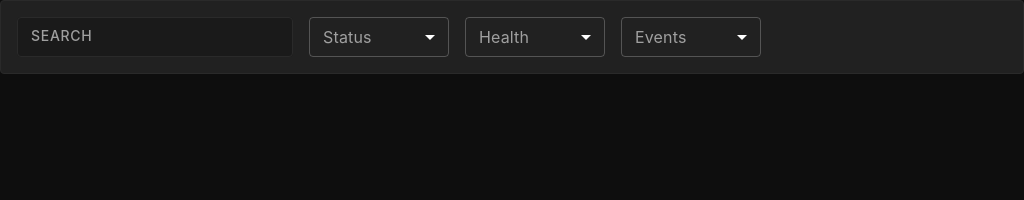
RealmsFilters › should render status filter options
Click the dropdown next to "Status".
click(379, 37)  # box [309,17,449,57]
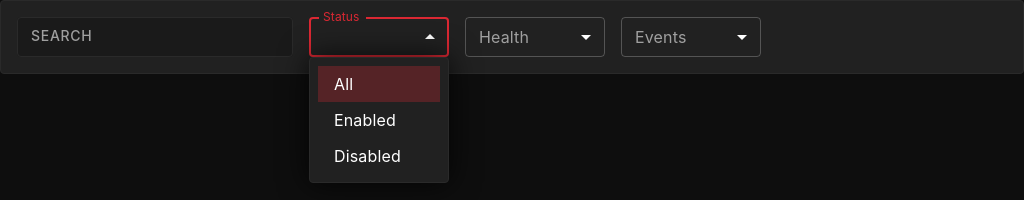
Expected: the option "All" is shown, [318,66,440,102]
Expected: the option "Enabled" is shown, [334,110,396,130]
Expected: the option "Disabled" is shown, [334,146,401,166]
